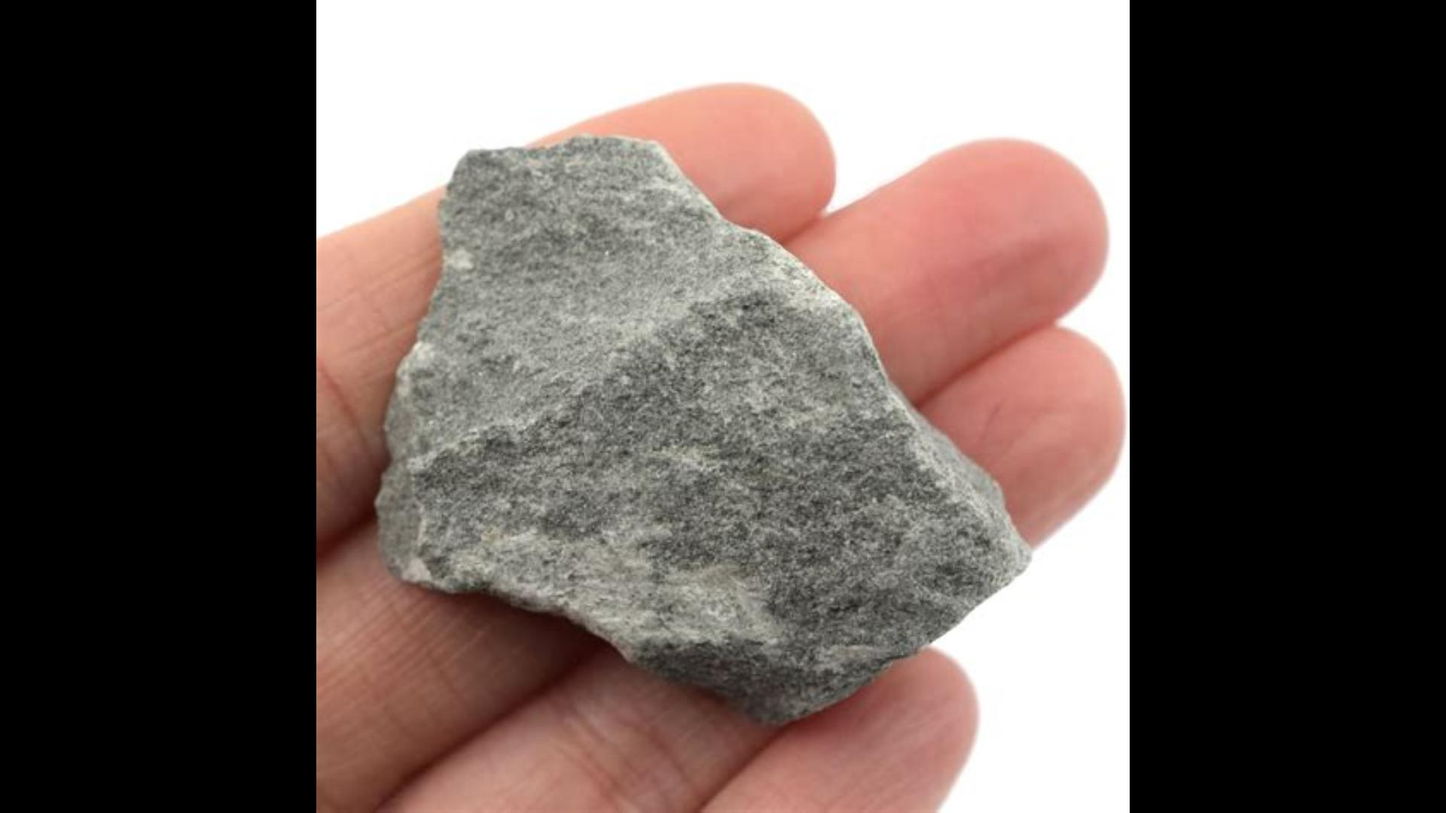rock: (376, 137, 1025, 720)
